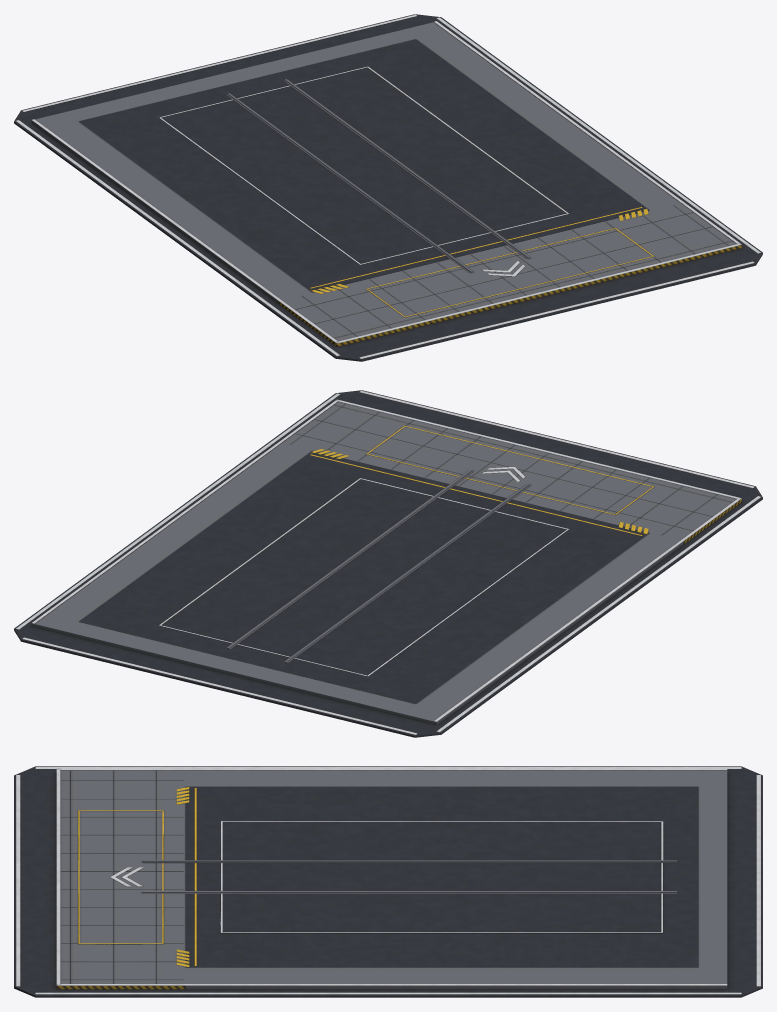
File: 整備庫_48_整修庫_地板.glb
3 views of the same model, one above another, from view 1: azimuth 30°, elevation 25°; view 2: azimuth 150°, elevation 25°; view 3: azimuth 270°, elevation 25° (orthographic). The views are drawn at different scales.
Visible parts, largest first — view 1: Hall_floor_refit_Mesh; view 2: Hall_floor_refit_Mesh; view 3: Hall_floor_refit_Mesh.
Part boxes in pixels (bbox=[...]): Hall_floor_refit_Mesh: bbox=[14, 14, 762, 361]; Hall_floor_refit_Mesh: bbox=[14, 390, 762, 737]; Hall_floor_refit_Mesh: bbox=[14, 766, 762, 997].
Size of the model in its own units: 76 by 1.1 by 105.
1 material, 1 textured.
